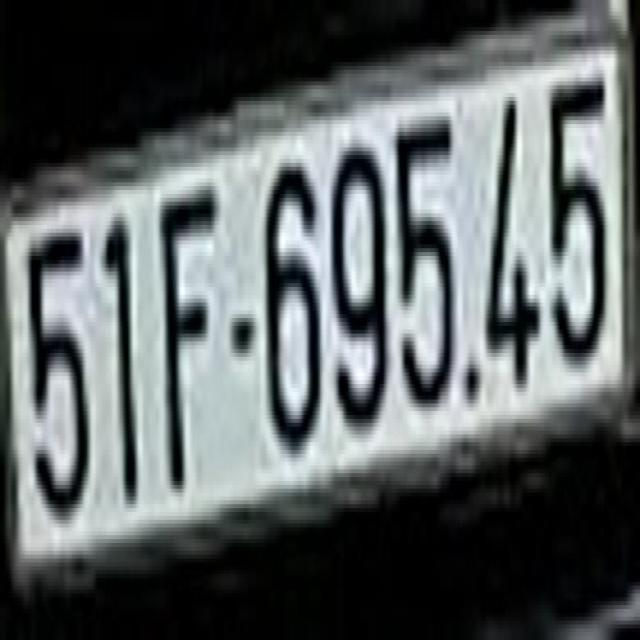1: (102, 210, 140, 492)
4: (486, 66, 540, 403)
5: (395, 100, 456, 396), (26, 221, 86, 504), (551, 85, 608, 372)
6: (266, 159, 316, 450)
9: (331, 151, 386, 419)
F: (160, 194, 217, 493)
